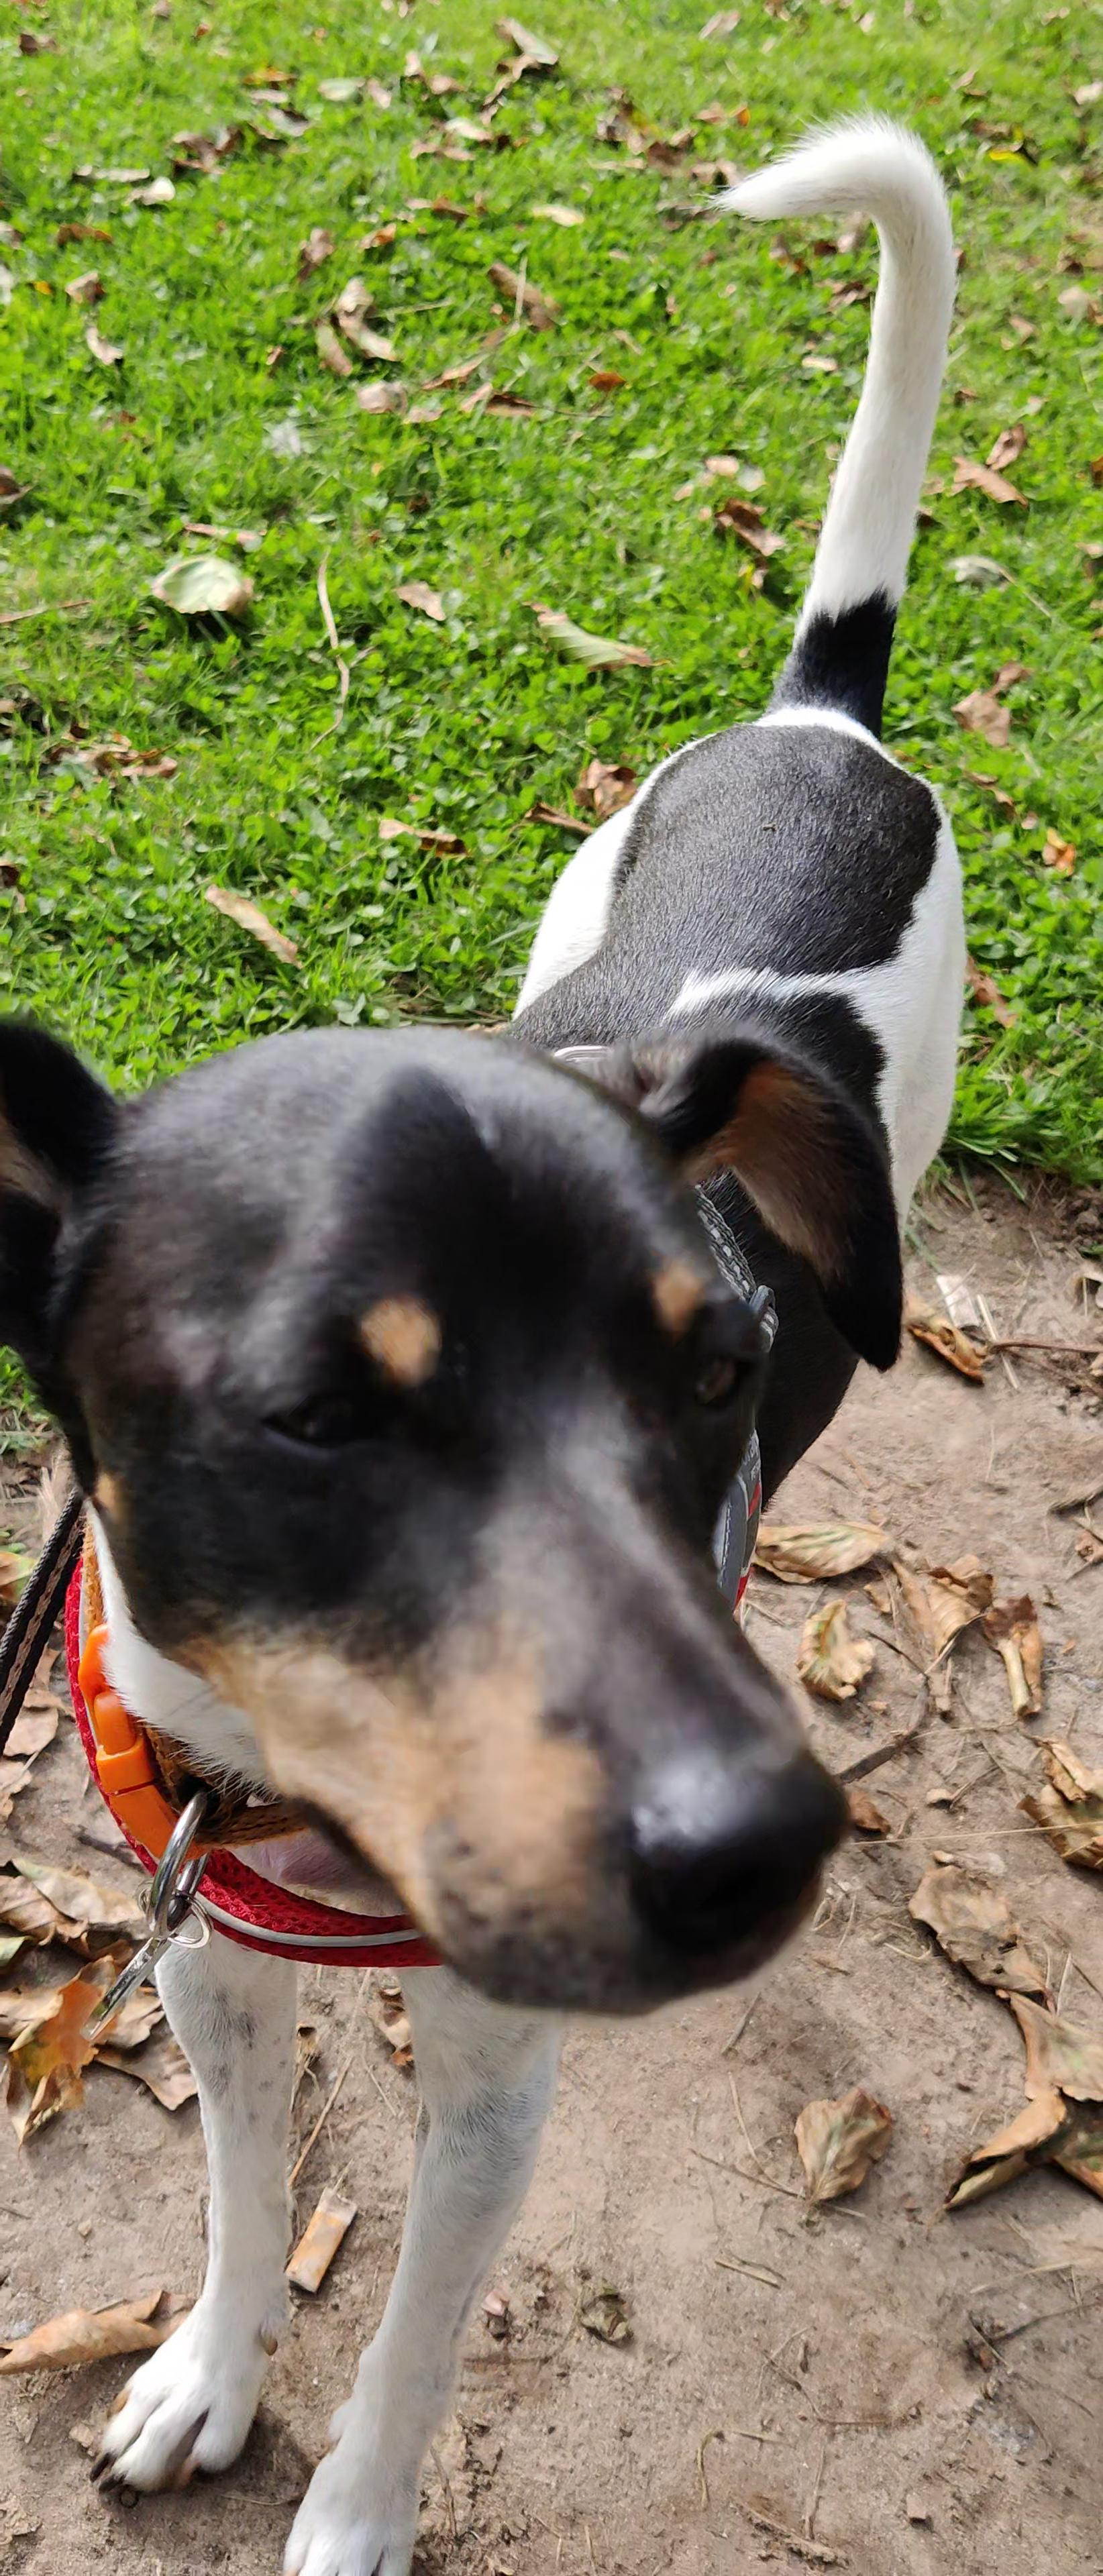Dog: (0, 103, 973, 2576)
